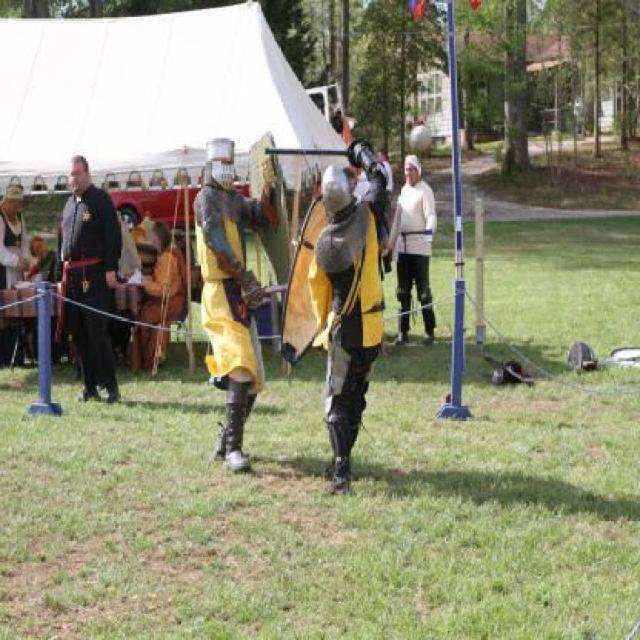Person: (306, 138, 388, 498), (192, 138, 276, 476), (54, 154, 120, 408), (384, 154, 438, 346), (125, 218, 188, 376), (0, 184, 32, 367), (24, 236, 56, 287), (377, 149, 392, 243)
